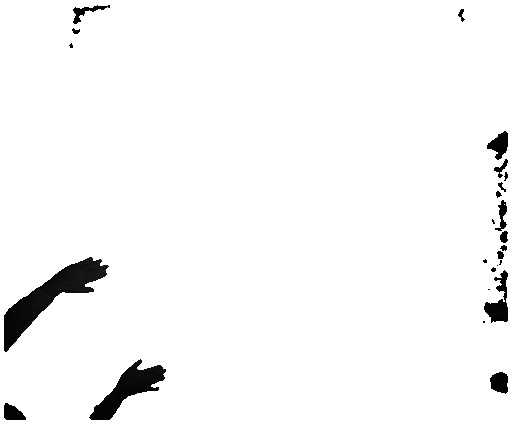hand: (57, 256, 111, 295), (120, 352, 167, 396)
